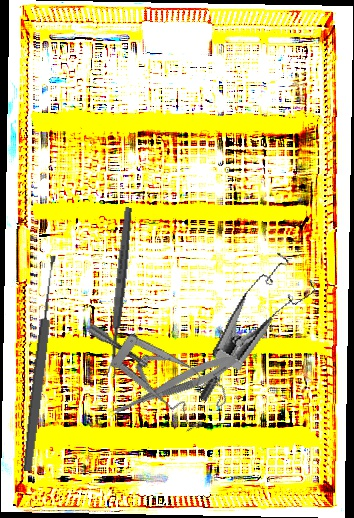Micro Scissor: (106, 348, 242, 426)
Speculum: (85, 282, 235, 452), (196, 242, 324, 424)
Surgical Spoon: (20, 255, 61, 472), (105, 206, 134, 379)
